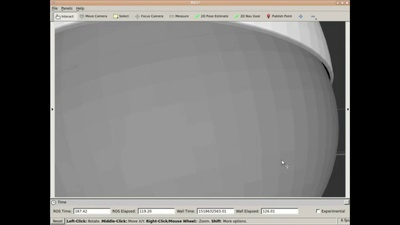mira_robot: (55, 21, 340, 197)
